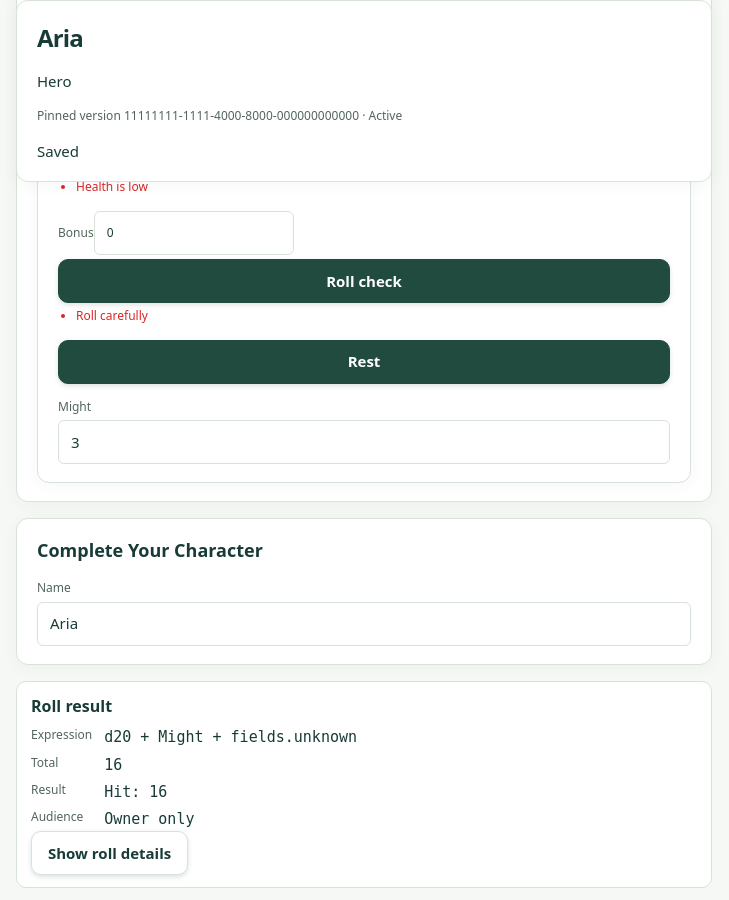
Scenario: CharacterSheet › uses projected attribute names in roll expressions and binding details
(page scrolled)
expect the text "d20 + Might + fields.unknown" is shown: met, box x1=104 y1=728 x2=357 y2=746
Click the button "Show roll details": (110, 854) x1=31 y1=832 x2=188 y2=876
(page scrolled)
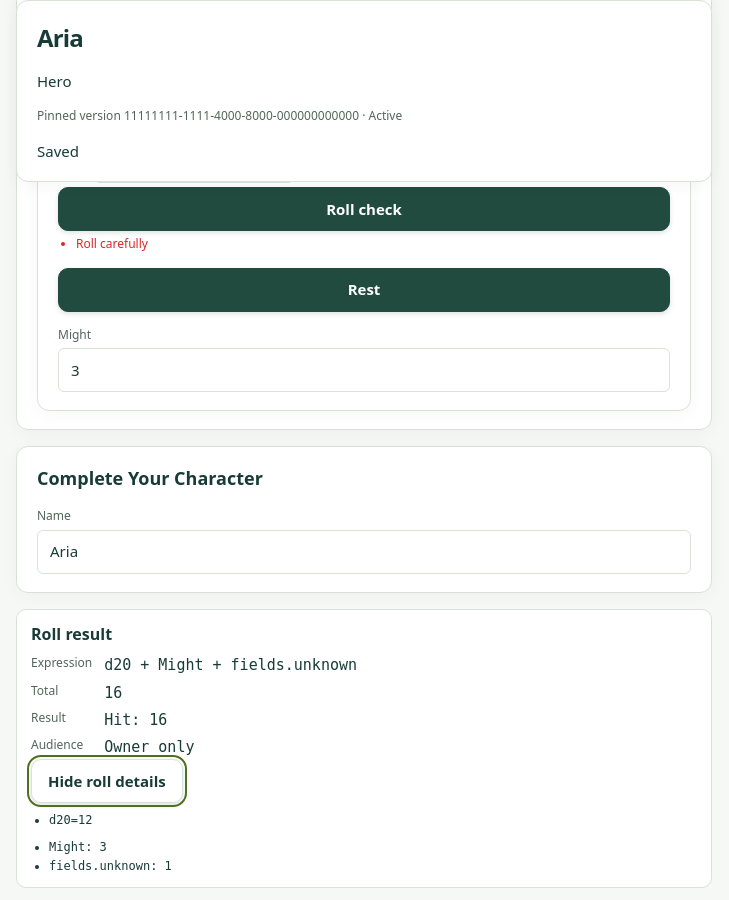
expect the list item "Might: 3" is shown: met, box x1=49 y1=840 x2=107 y2=854
expect the list item "fields.unknown: 1" is shown: met, box x1=49 y1=859 x2=172 y2=873
